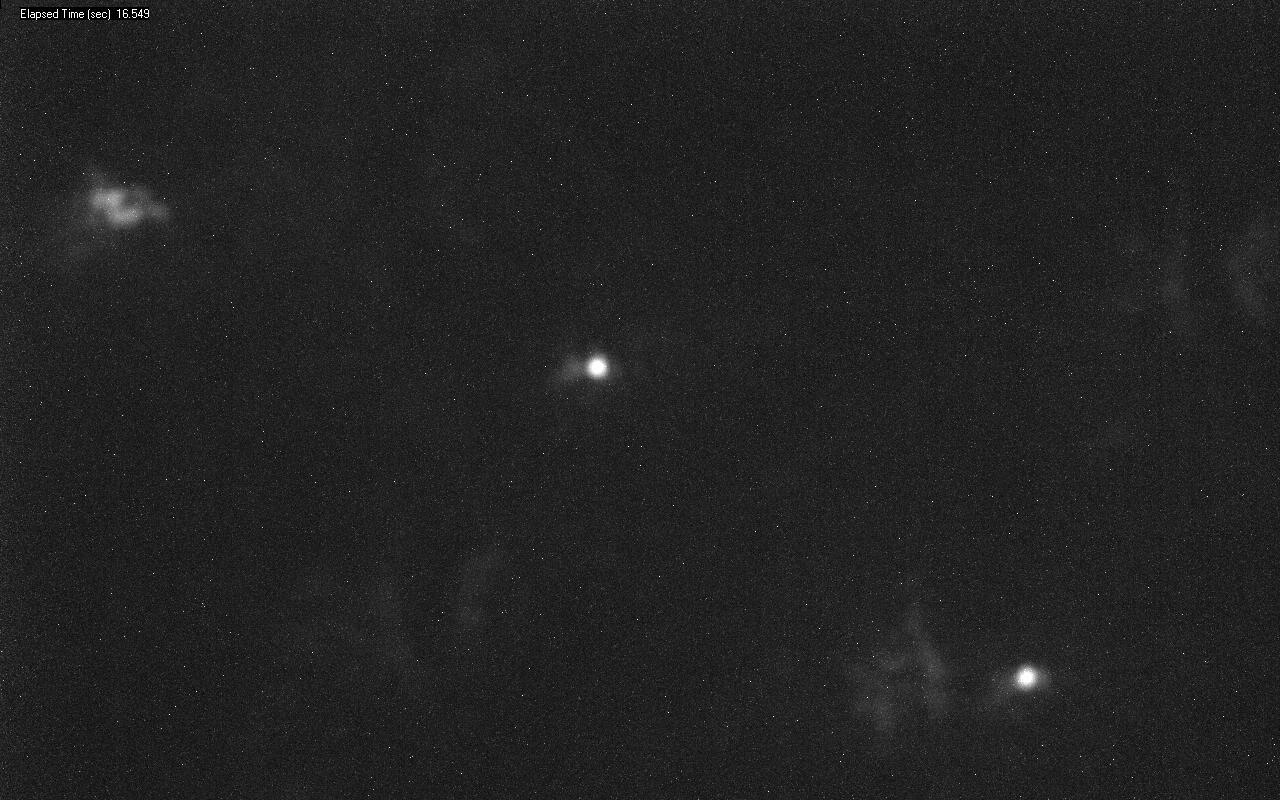Bead: (1012, 666, 1040, 690), (585, 356, 609, 380)
